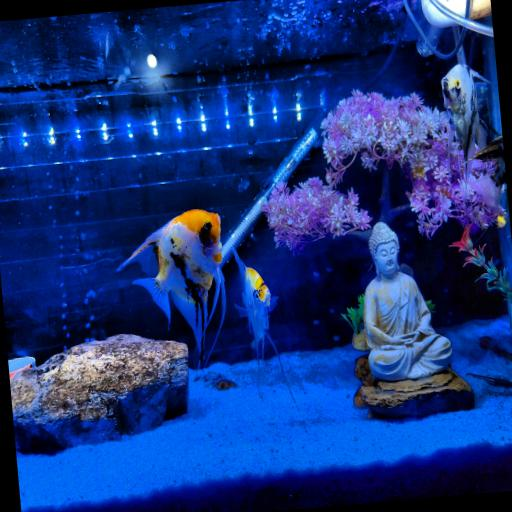Fish: (118, 210, 225, 363), (233, 248, 283, 375), (442, 64, 488, 167), (471, 137, 505, 211)
